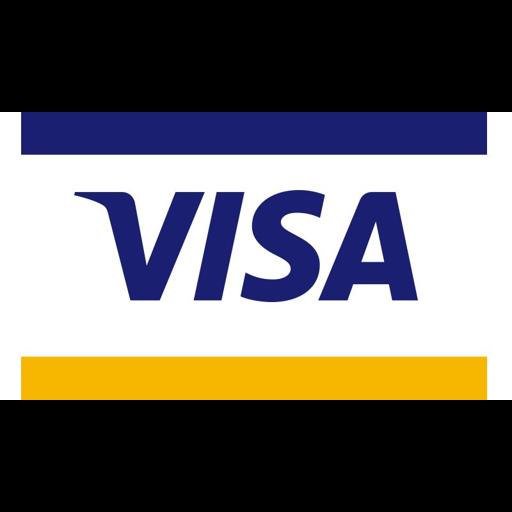Visa International Service Association: (0, 112, 512, 400)
